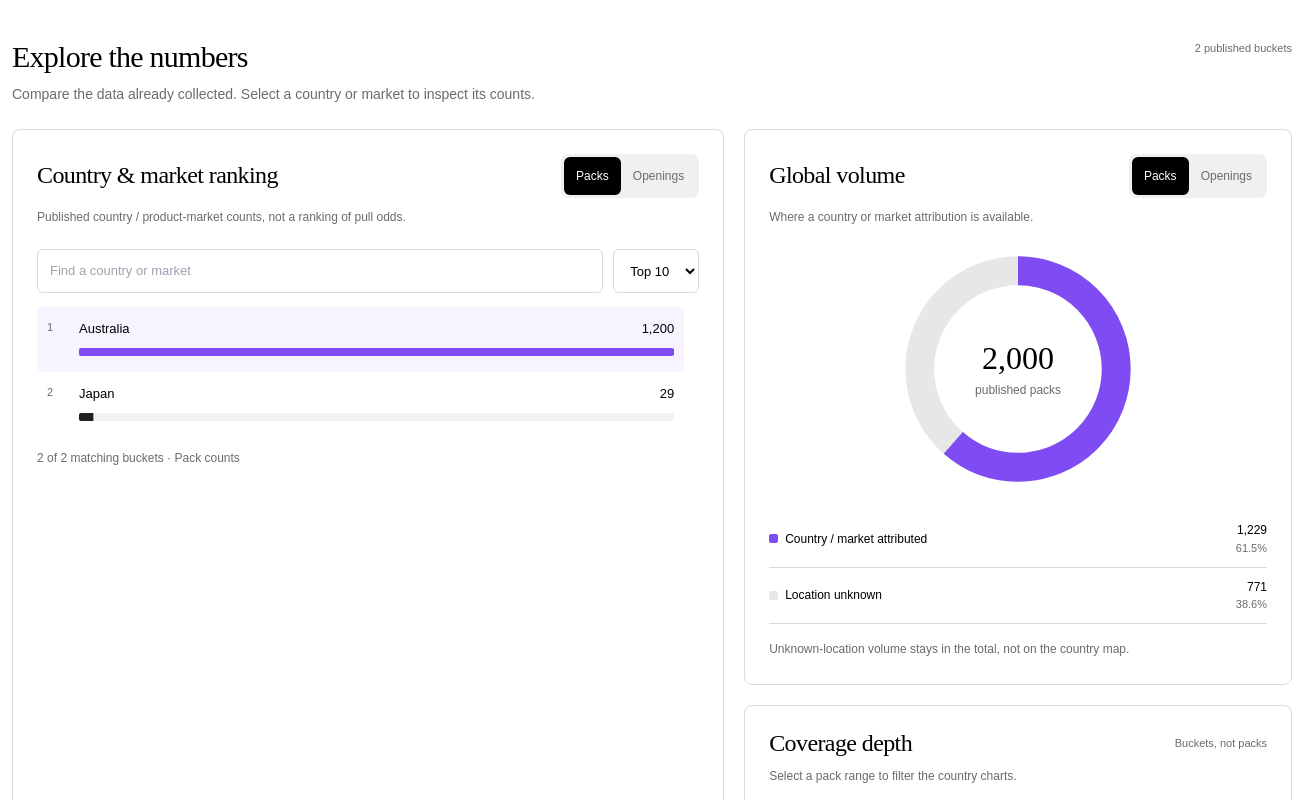
Scenario: OverviewCharts interactions › shows the explicit global breakdown for both available metrics
Expected: the picture named "1,229 attributed packs; 771 packs with unknown location" is shown, [888, 239, 1148, 499]
Click the button "Openings" in the row of "Global volume" at (1226, 176), box [1189, 157, 1264, 195]
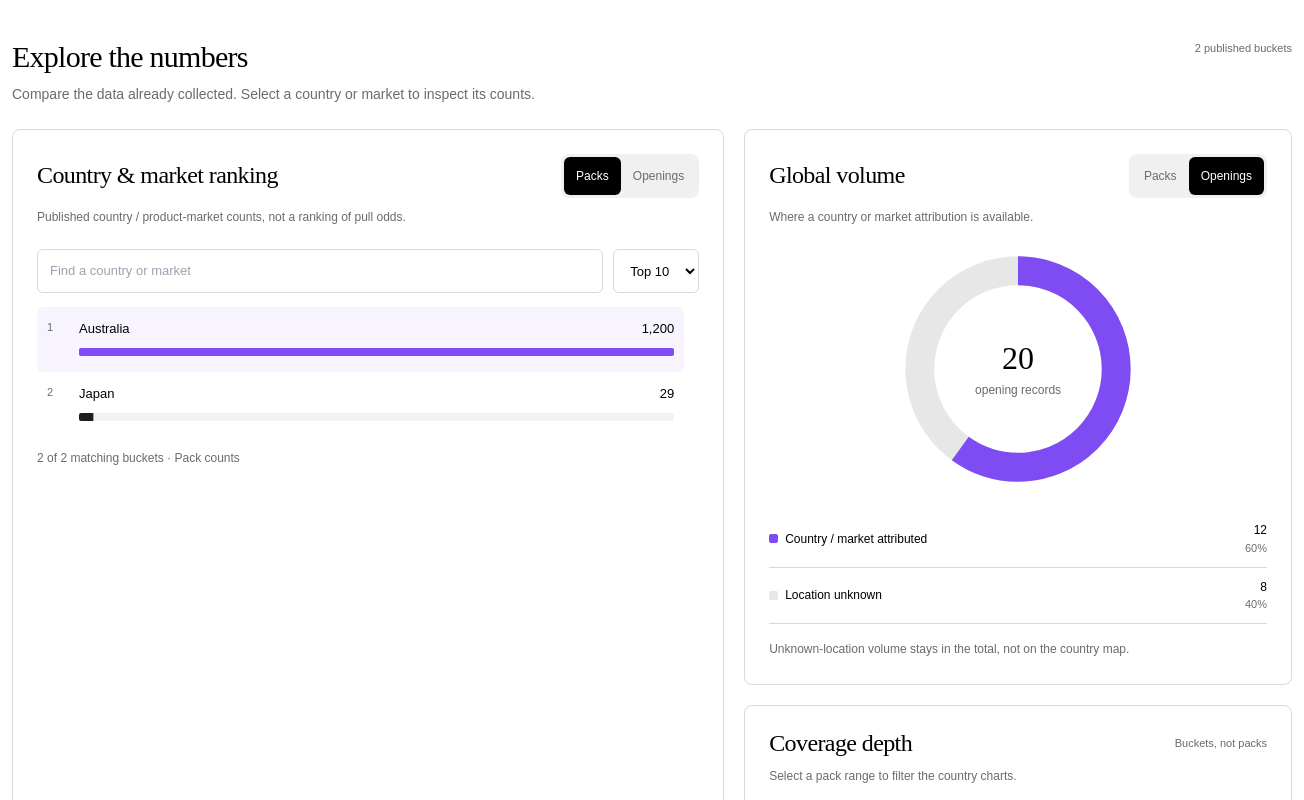
Expected: the text "Location unknown" is shown, [769, 588, 882, 602]
Now the picture named "12 attributed openings; 8 openings with unknown location" is shown, box [888, 239, 1148, 499]
